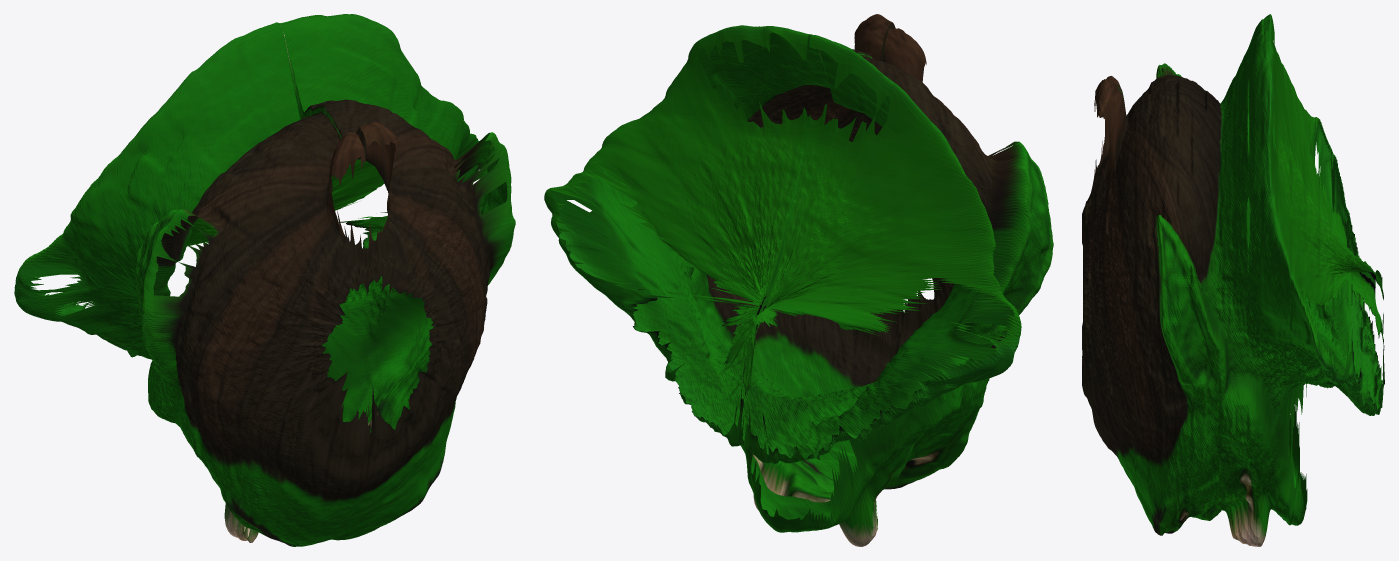
3 views of the same model, side by side, from view 1: azimuth 30°, elevation 25°; view 2: azimuth 150°, elevation 25°; view 3: azimuth 270°, elevation 25° (orthographic).
Parts seen in each view (by area): view 1: geometry_0; view 2: geometry_0; view 3: geometry_0.
Boxes of the visible parts, x1=… form: geometry_0: x1=14, y1=14, x2=515, y2=546; geometry_0: x1=544, y1=14, x2=1053, y2=546; geometry_0: x1=1082, y1=14, x2=1384, y2=546.
Bounding box in the file's own units: 1.83 × 1.84 × 1.01.
Materials: 1 (1 with a texture image).
